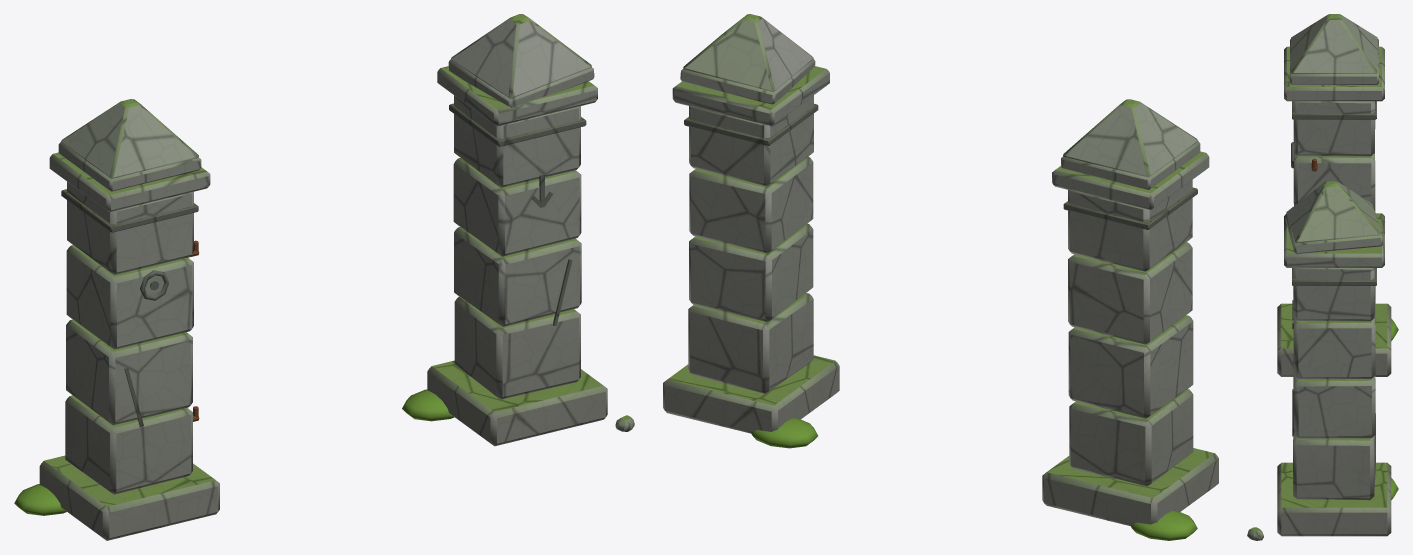
The model's file is stone_gate_pillars.glb.
3 renders of one model, left to right at view 1: azimuth 30°, elevation 25°; view 2: azimuth 150°, elevation 25°; view 3: azimuth 270°, elevation 25°, orthographic. The views are drawn at different scales.
Parts seen in each view (by area): view 1: stone_gate_pillars; view 2: stone_gate_pillars; view 3: stone_gate_pillars.
Part boxes in pixels (box(x1,y1,x2,y2)): stone_gate_pillars: box(14, 14, 634, 540); stone_gate_pillars: box(663, 14, 1218, 540); stone_gate_pillars: box(1247, 14, 1398, 540).
Bounding box in the file's own units: 5.35 × 3.85 × 1.53.
Materials: 5 (5 with a texture image).
